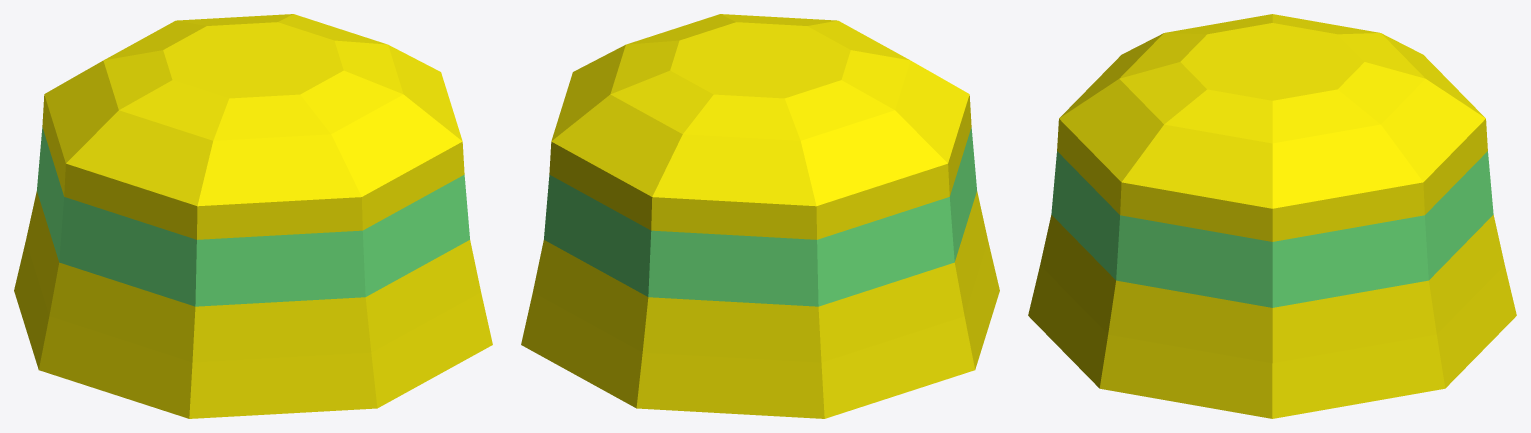
The model's file is projectileStaro.fbx.
The picture shows the model from 3 angles, left to right: view 1: azimuth 30°, elevation 25°; view 2: azimuth 150°, elevation 25°; view 3: azimuth 270°, elevation 25°; orthographic projection.
Visible parts, largest first — view 1: Cylinder; view 2: Cylinder; view 3: Cylinder.
Part boxes in pixels (bbox=[...]): Cylinder: bbox=[14, 14, 492, 418]; Cylinder: bbox=[521, 14, 999, 418]; Cylinder: bbox=[1028, 14, 1516, 418].
Size of the model in its own units: 228 by 131 by 228.
